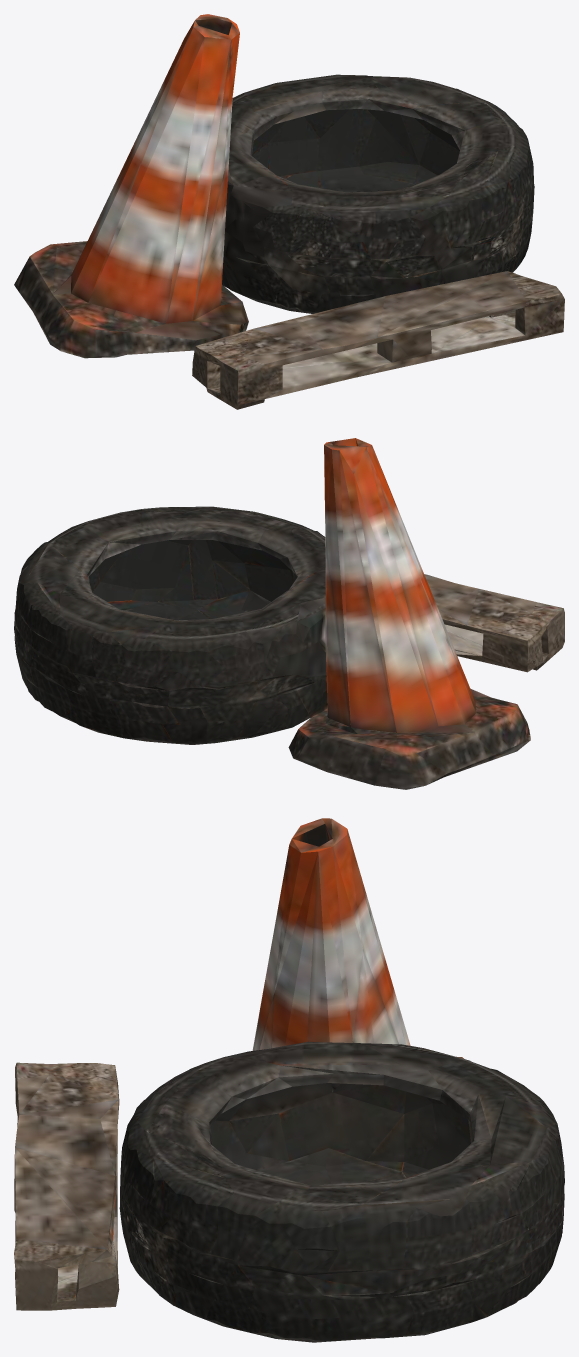
Rendered from Road_Debris_Cluster_2.glb.
3 renders of one model, top to bottom at view 1: azimuth 30°, elevation 25°; view 2: azimuth 150°, elevation 25°; view 3: azimuth 270°, elevation 25°, orthographic. The views are drawn at different scales.
Visible parts, largest first — view 1: output_unwrapped; view 2: output_unwrapped; view 3: output_unwrapped.
Boxes of the visible parts, x1,y1,x2,y2 form: output_unwrapped: [14, 14, 564, 409]; output_unwrapped: [14, 438, 564, 789]; output_unwrapped: [14, 818, 564, 1342].
Bounding box in the file's own units: 3.2 × 1.81 × 2.59.
Materials: 1 (1 with a texture image).
